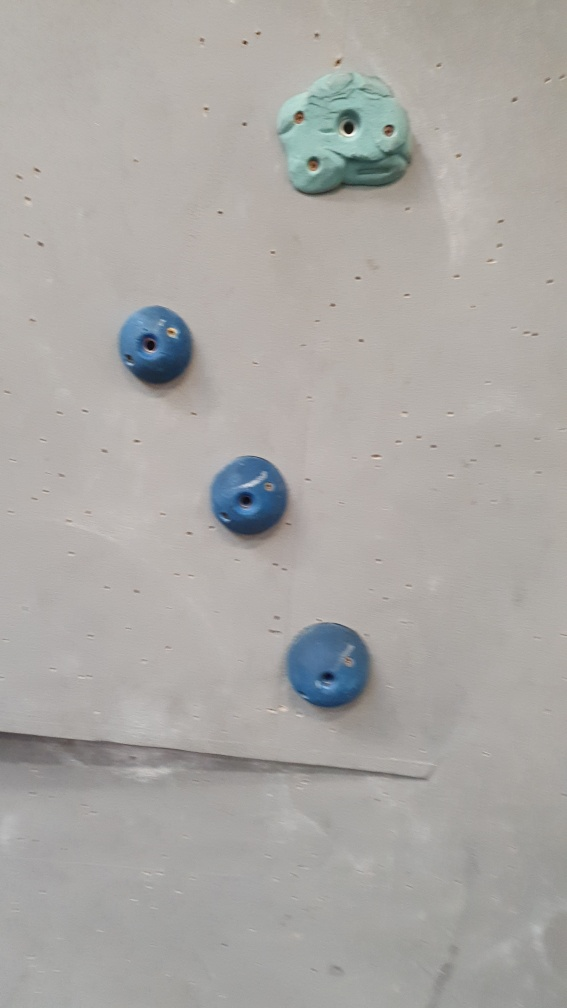Sloper: (284, 611, 378, 715), (109, 300, 200, 393), (206, 448, 293, 543)
